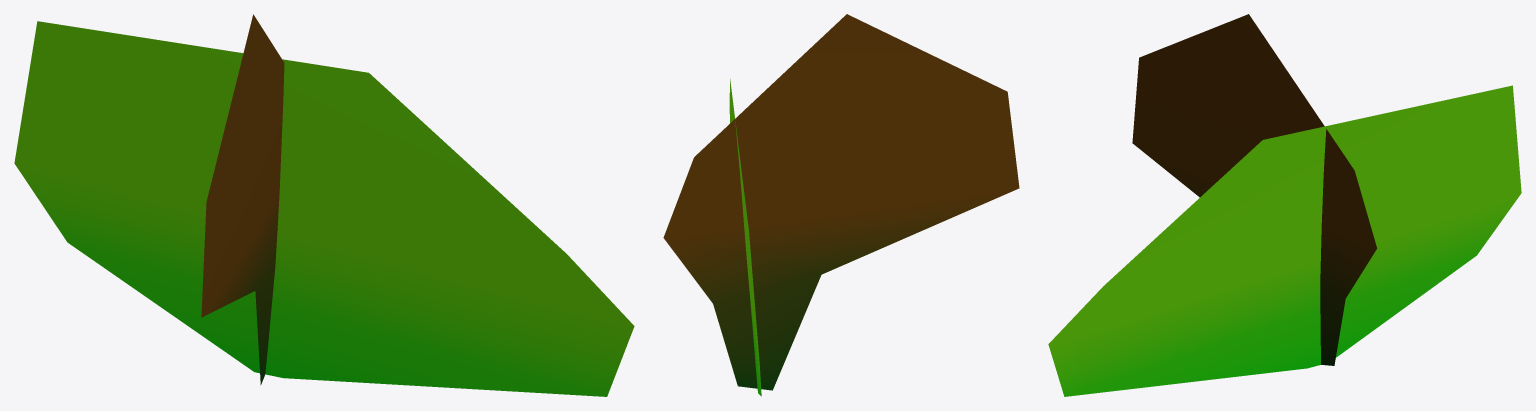
The model's file is Seaweed_LOD1_Var1_sdpjN.fbx.
The picture shows the model from 3 angles, left to right: view 1: azimuth 30°, elevation 25°; view 2: azimuth 150°, elevation 25°; view 3: azimuth 270°, elevation 25°; orthographic projection. The views are drawn at different scales.
Parts seen in each view (by area): view 1: _5ee9_Var1_LOD1; view 2: _5ee9_Var1_LOD1; view 3: _5ee9_Var1_LOD1.
Boxes of the visible parts, x1=… form: _5ee9_Var1_LOD1: x1=14, y1=14, x2=634, y2=396; _5ee9_Var1_LOD1: x1=663, y1=14, x2=1019, y2=396; _5ee9_Var1_LOD1: x1=1048, y1=14, x2=1521, y2=396.
Bounding box in the file's own units: 13.47 × 13.89 × 17.96.
